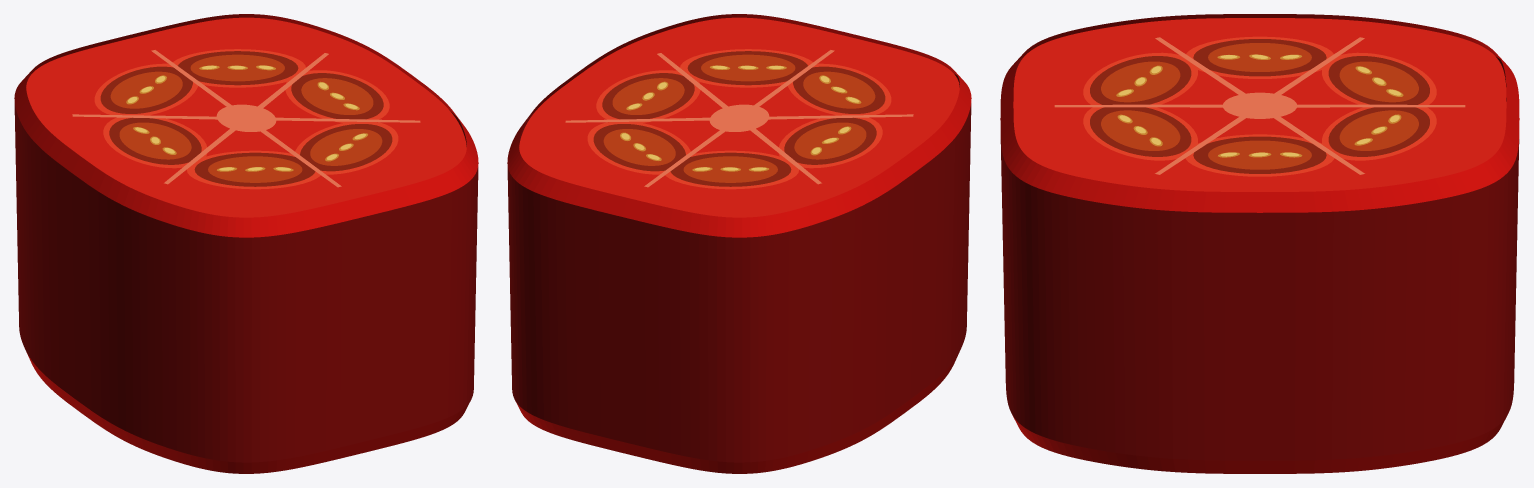
File: tomato_slice.dae
3 views of the same model, side by side, from view 1: azimuth 30°, elevation 25°; view 2: azimuth 150°, elevation 25°; view 3: azimuth 270°, elevation 25° (orthographic). The views are drawn at different scales.
Parts seen in each view (by area): view 1: skin-node, flesh-node, skin_edge-node, gel_light-node, gel-node, flesh_light-node, pith-node, seed_edge-node, seed-node; view 2: skin-node, flesh-node, skin_edge-node, gel_light-node, gel-node, flesh_light-node, pith-node, seed_edge-node, seed-node; view 3: skin-node, flesh-node, skin_edge-node, gel_light-node, gel-node, flesh_light-node, pith-node, seed_edge-node, seed-node.
Boxes of the visible parts, left/top/right/bottom form: skin-node: left=14, top=74, right=478, bottom=462; flesh-node: left=26, top=17, right=466, bottom=217; skin_edge-node: left=14, top=14, right=478, bottom=473; gel_light-node: left=110, top=54, right=382, bottom=182; gel-node: left=100, top=51, right=392, bottom=186; flesh_light-node: left=94, top=49, right=398, bottom=189; pith-node: left=72, top=50, right=420, bottom=187; seed_edge-node: left=126, top=65, right=367, bottom=171; seed-node: left=128, top=65, right=366, bottom=170; skin-node: left=507, top=74, right=971, bottom=462; flesh-node: left=519, top=17, right=959, bottom=217; skin_edge-node: left=507, top=14, right=971, bottom=473; gel_light-node: left=603, top=54, right=875, bottom=182; gel-node: left=593, top=51, right=885, bottom=186; flesh_light-node: left=587, top=49, right=891, bottom=189; pith-node: left=565, top=50, right=913, bottom=187; seed_edge-node: left=620, top=65, right=861, bottom=171; seed-node: left=621, top=65, right=859, bottom=170; skin-node: left=1000, top=57, right=1519, bottom=460; flesh-node: left=1013, top=18, right=1506, bottom=191; skin_edge-node: left=1000, top=14, right=1519, bottom=473; gel_light-node: left=1101, top=43, right=1418, bottom=169; gel-node: left=1090, top=39, right=1429, bottom=173; flesh_light-node: left=1083, top=36, right=1436, bottom=176; pith-node: left=1054, top=37, right=1465, bottom=174; seed_edge-node: left=1116, top=54, right=1403, bottom=157; seed-node: left=1118, top=54, right=1401, bottom=156.
Bounding box in the file's own units: 0.0499 × 0.0584 × 0.035.
